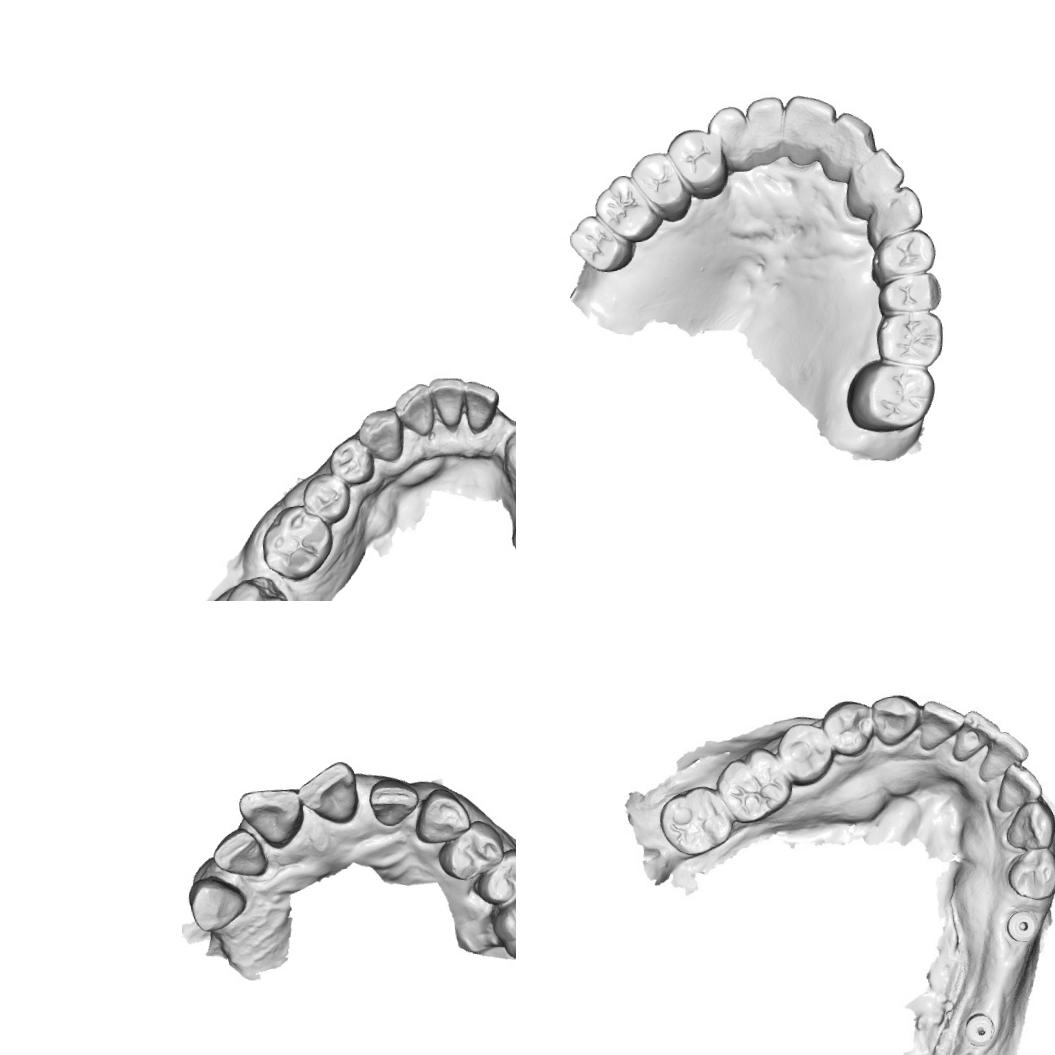canine: (184, 871, 250, 936), (704, 100, 758, 176), (410, 783, 473, 846), (864, 184, 924, 239), (354, 405, 405, 464), (866, 693, 921, 746), (1000, 799, 1055, 851)
implant: (1003, 906, 1040, 941), (963, 1009, 997, 1047)
incisor: (234, 780, 308, 853), (293, 756, 363, 830), (778, 90, 840, 168), (825, 107, 876, 186), (846, 145, 906, 210), (741, 90, 792, 166), (209, 824, 274, 880), (364, 771, 423, 830), (386, 376, 437, 444), (425, 365, 470, 436), (456, 376, 503, 436), (917, 698, 967, 748), (978, 726, 1026, 776), (997, 764, 1043, 810), (952, 712, 994, 753)
molar: (840, 353, 938, 438), (258, 500, 336, 584), (590, 170, 662, 247), (658, 785, 732, 858), (716, 747, 791, 818), (871, 308, 948, 372), (564, 208, 636, 276), (484, 875, 516, 967), (211, 572, 292, 601)
premolar: (662, 124, 733, 203), (625, 146, 693, 226), (432, 815, 508, 885), (868, 226, 938, 282), (872, 265, 945, 316), (298, 467, 354, 525), (822, 700, 878, 758), (467, 844, 516, 910), (780, 718, 830, 782), (1005, 845, 1055, 904), (325, 435, 376, 488)
